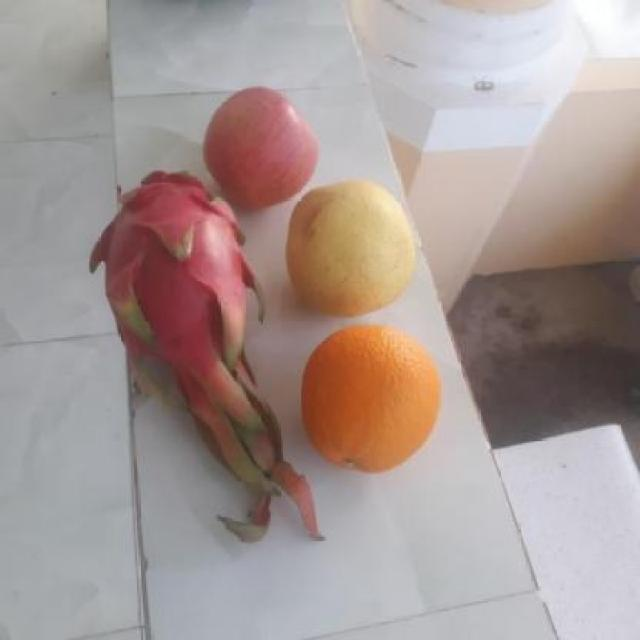apple: (198, 80, 320, 209)
dragon fruit: (80, 169, 258, 389)
oren: (294, 321, 444, 472)
pear: (278, 180, 420, 315)
